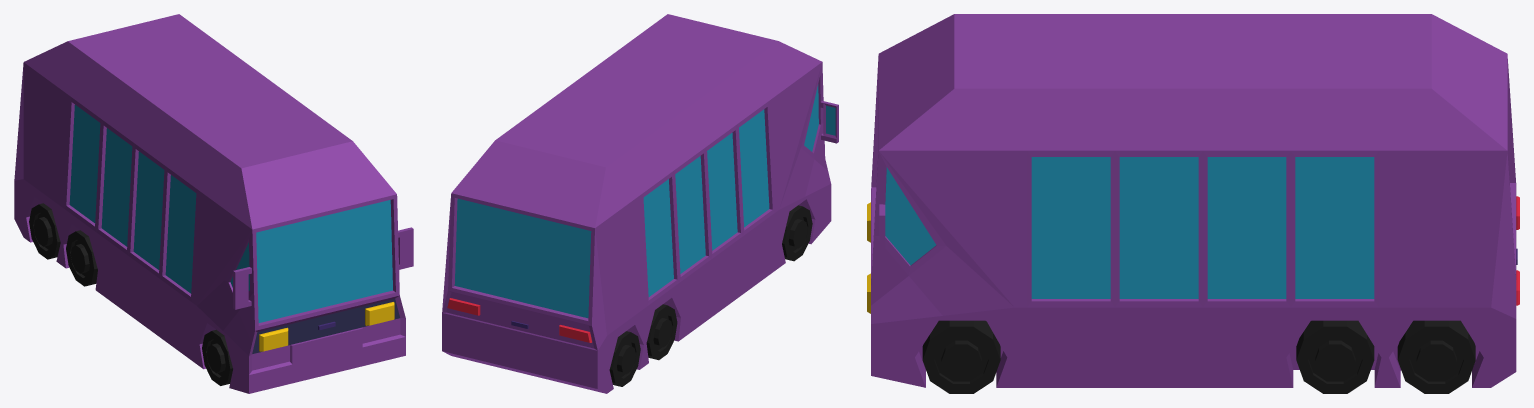
Rendered from bus.glb.
3 views of the same model, side by side, from view 1: azimuth 30°, elevation 25°; view 2: azimuth 150°, elevation 25°; view 3: azimuth 270°, elevation 25° (orthographic). The views are drawn at different scales.
Parts seen in each view (by area): view 1: bus; view 2: bus; view 3: bus.
Boxes of the visible parts, x1,y1,x2,y2 form: bus: [14, 14, 413, 393]; bus: [442, 14, 838, 393]; bus: [867, 14, 1519, 393].
Bounding box in the file's own units: 4.39 × 4.96 × 10.12.
Materials: 1 (1 with a texture image).
